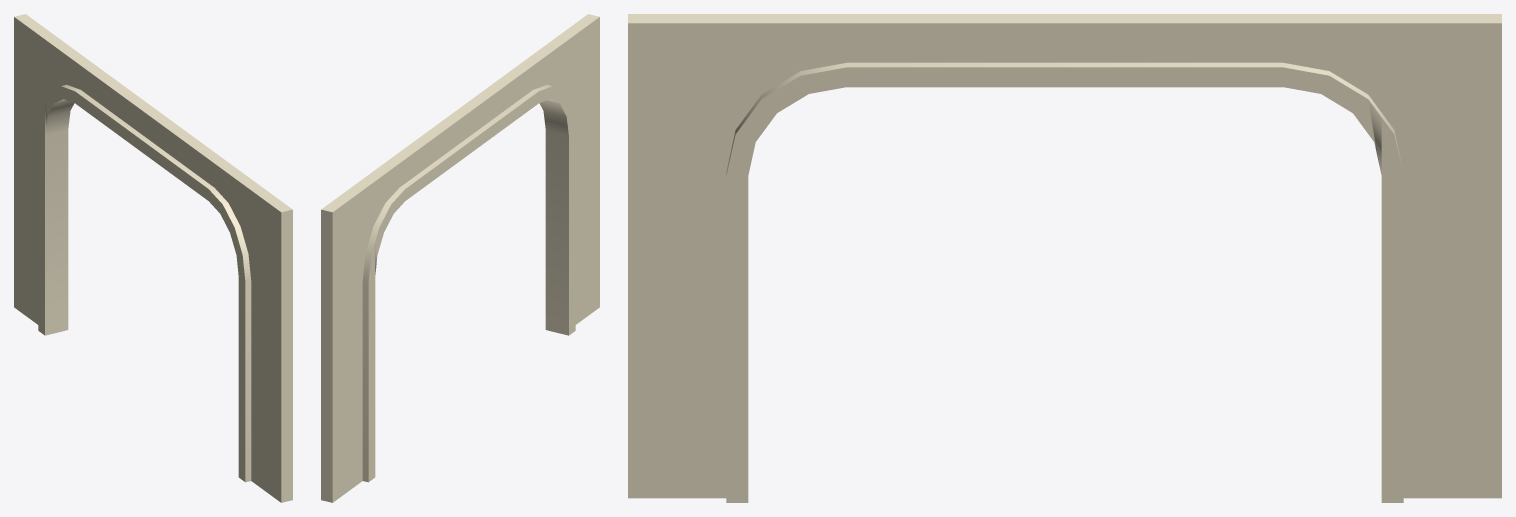
The model's file is Door.fbx.
3 renders of one model, left to right at view 1: azimuth 30°, elevation 25°; view 2: azimuth 150°, elevation 25°; view 3: azimuth 270°, elevation 25°, orthographic. The views are drawn at different scales.
Parts seen in each view (by area): view 1: Door_wall-doorway-wide-round; view 2: Door_wall-doorway-wide-round; view 3: Door_wall-doorway-wide-round.
Part boxes in pixels (x1=…): Door_wall-doorway-wide-round: x1=14, y1=14, x2=292, y2=502; Door_wall-doorway-wide-round: x1=321, y1=14, x2=599, y2=502; Door_wall-doorway-wide-round: x1=628, y1=14, x2=1501, y2=502.
Bounding box in the file's own units: 21.67 × 260 × 433.
